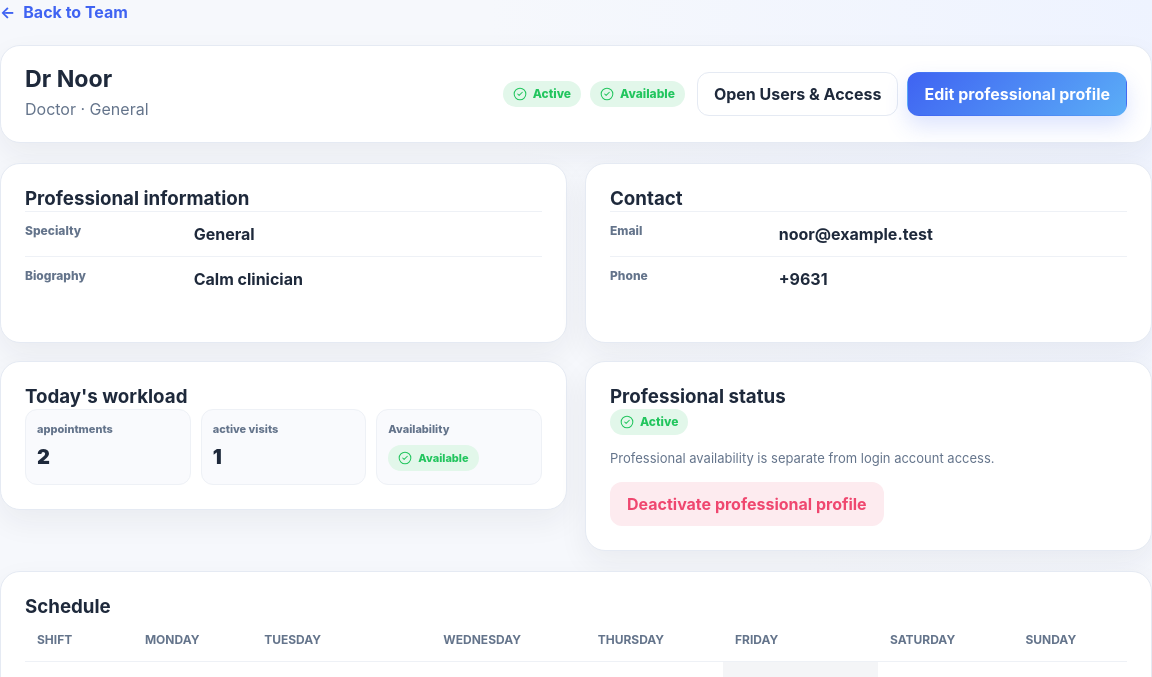
Test: Team professional directory and detail › uses a controlled Doctor edit mode and Cancel restores server values without saving
Click the button "Edit professional profile" at x=1017, y=94, box [908,72,1127,116]
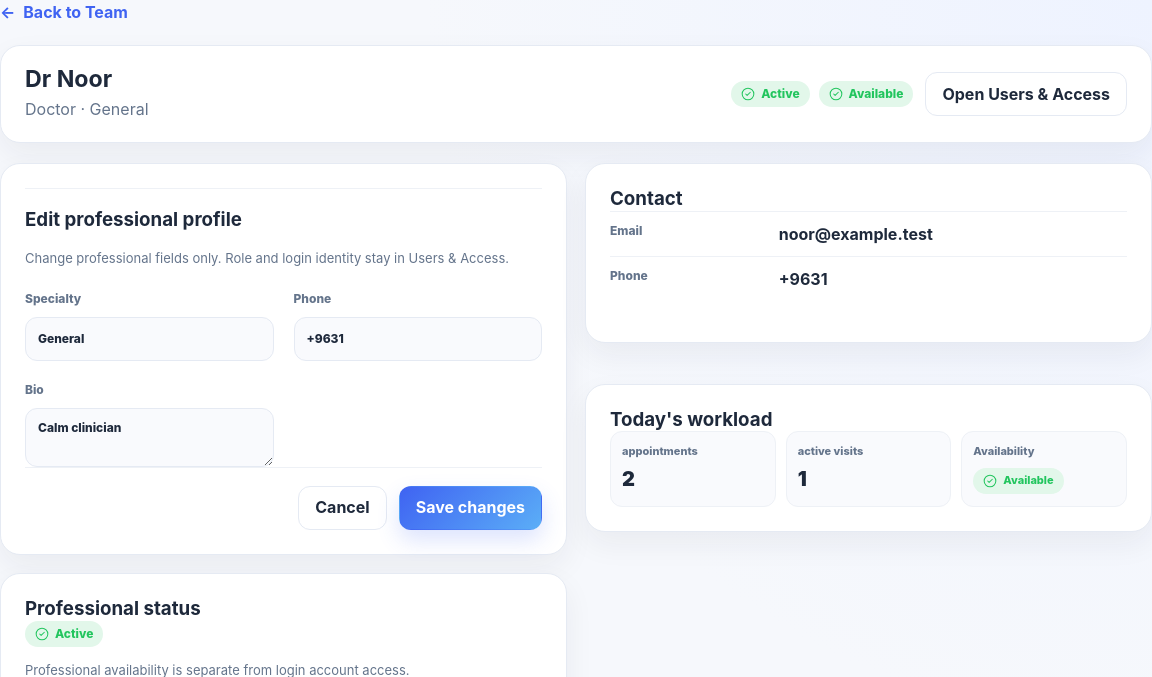
Expected: the field labelled "Specialty" holds "General"
Replace the text in the field labelled "Specialty" with "Orthodontics" at x=149, y=339, box [25,317,274,361]
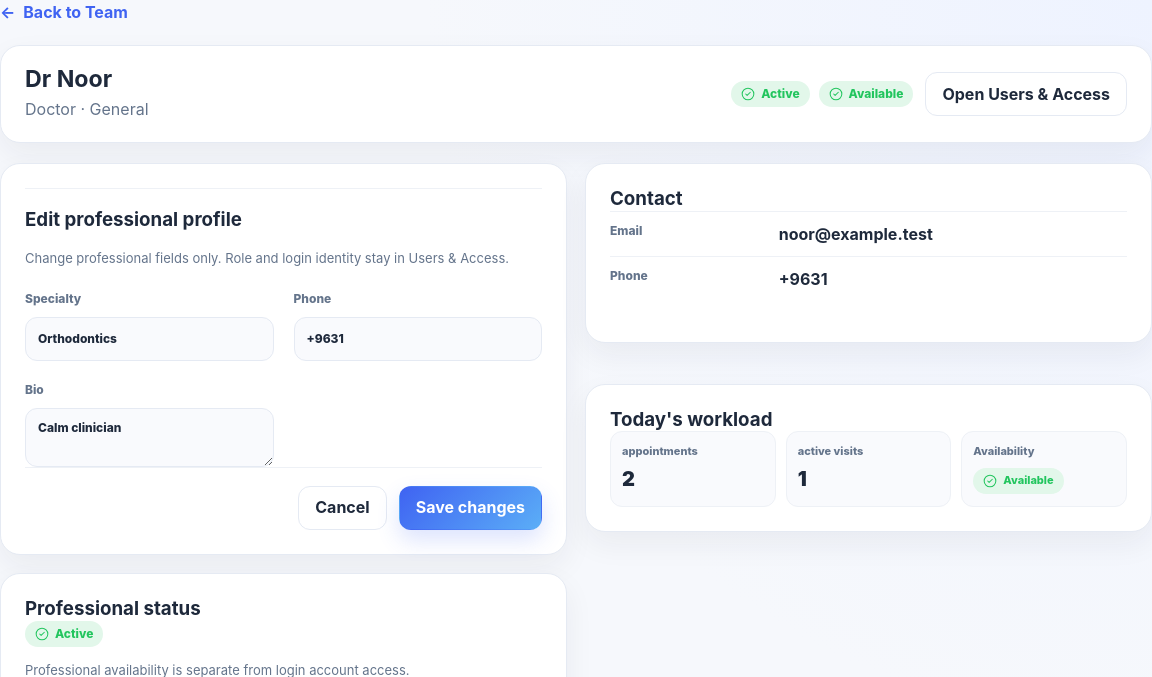
Click the button "Cancel" at x=342, y=508, box [298,486,387,530]
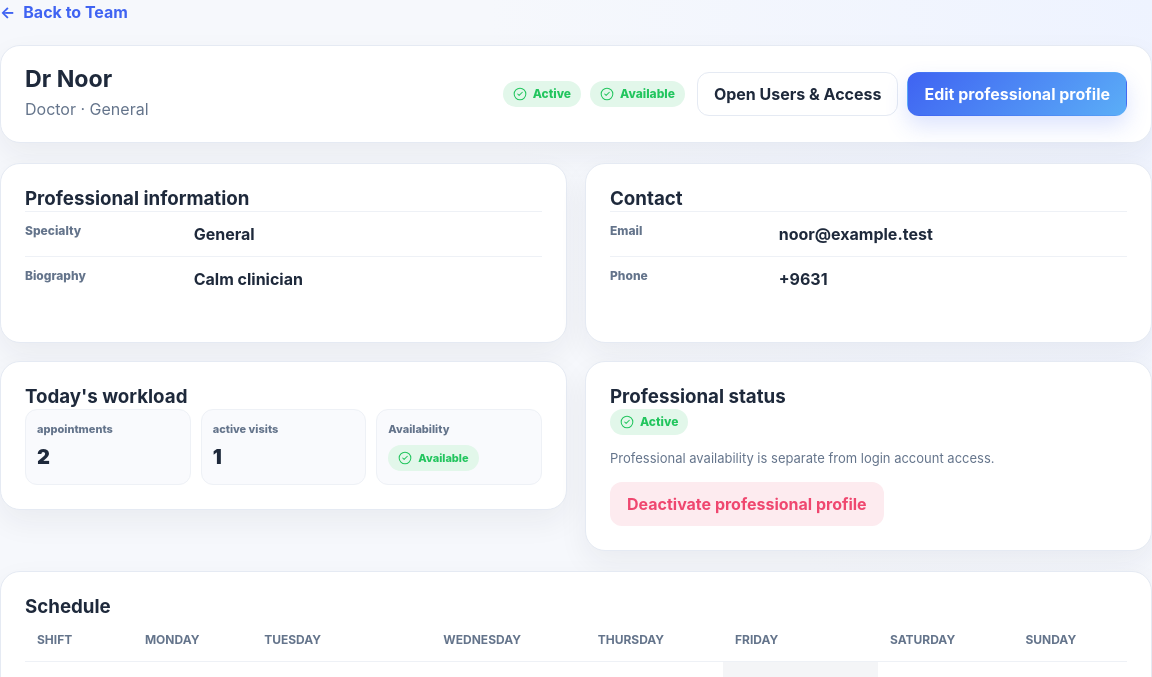
Click the button "Edit professional profile" at x=1017, y=94, box [908,72,1127,116]
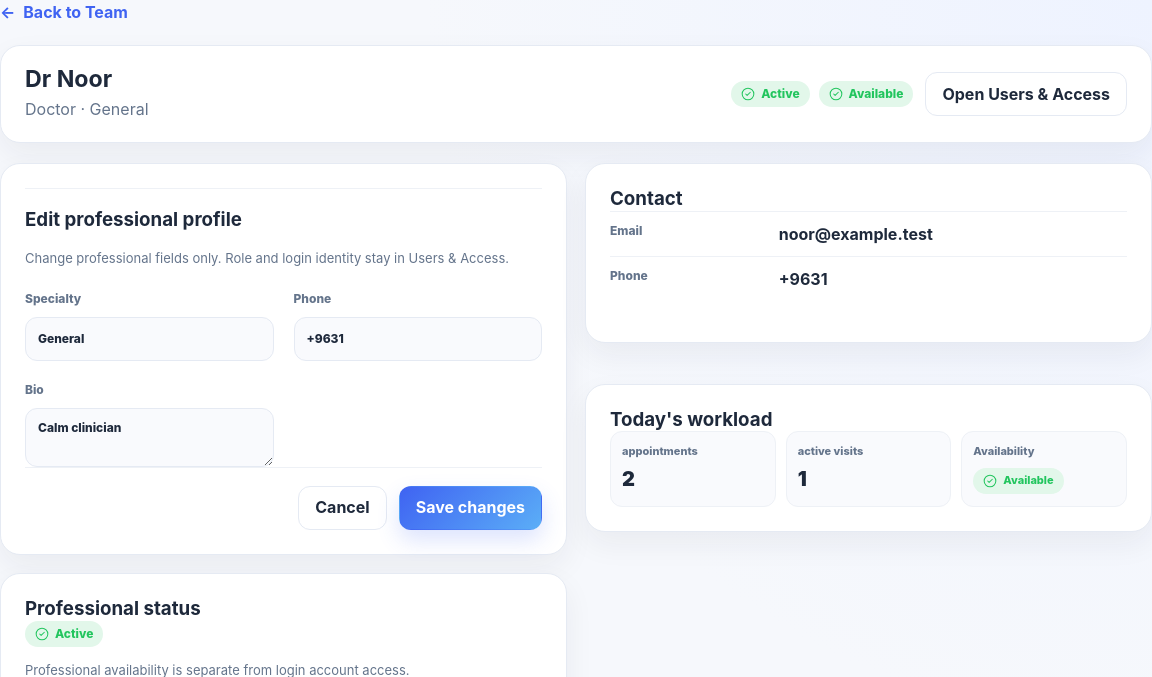
Expected: the field labelled "Specialty" holds "General", [25,317,274,361]
